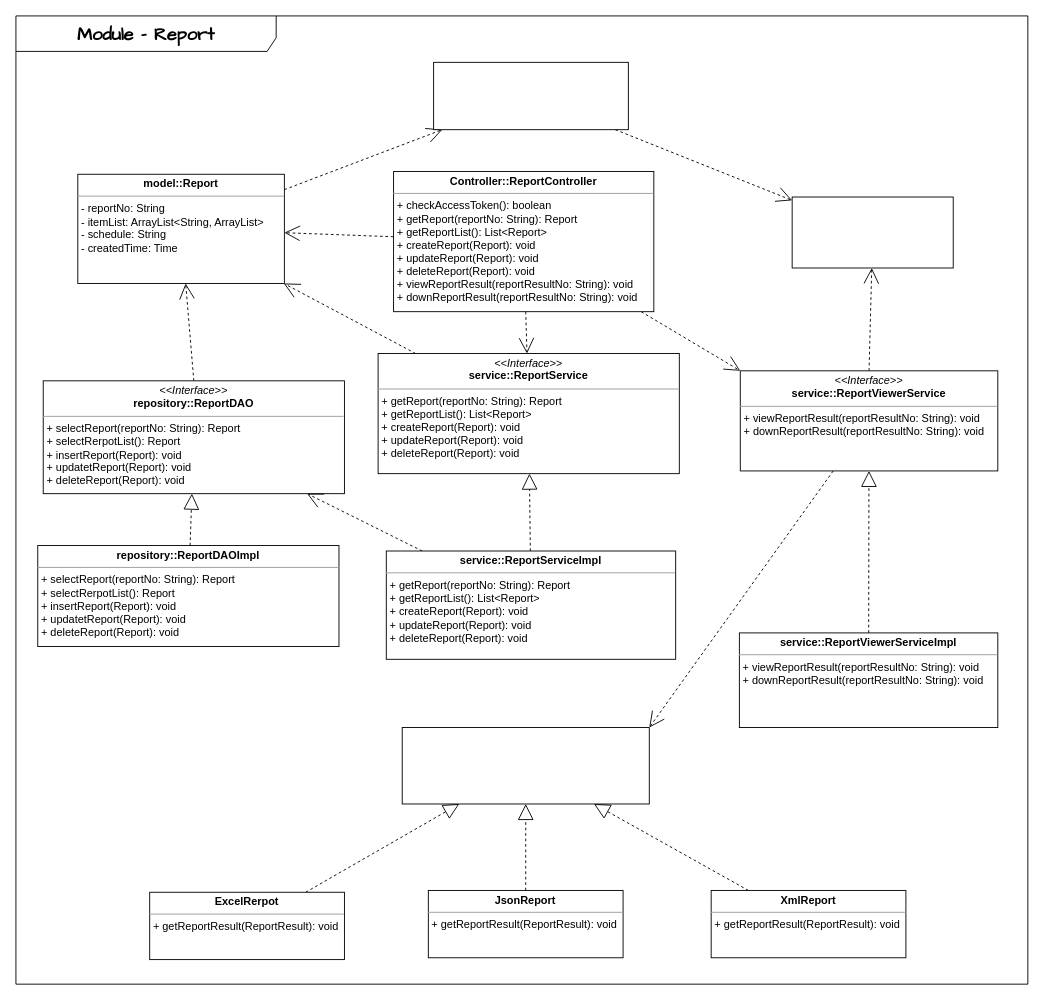
This 1044x1000 diagram has some shape labels left out. The shapes that lost their labels are listed below. From the top down, each one's centre as x and y in pixels, then its label:
pixel 530 95: <<Batch>> ReportBatch + createReport(Report): ReportResult
pixel 872 232: model::ReportResult - reportResultNo: String - contents
pixel 525 765: <<Interface>> service::ReportViewerAdapter + getReportResult(ReportResult): void
